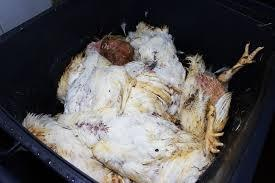AbNormal: (31, 23, 255, 179), (89, 102, 225, 183), (182, 47, 234, 145)
